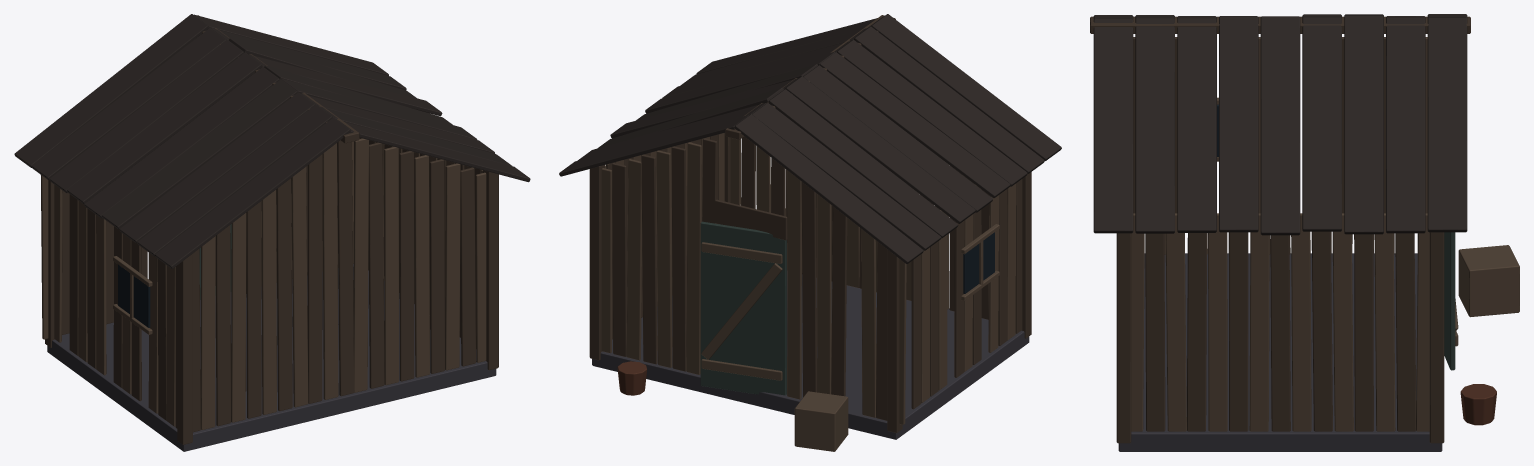
The model's file is SM_ENV_Galpao.fbx.
3 renders of one model, left to right at view 1: azimuth 30°, elevation 25°; view 2: azimuth 150°, elevation 25°; view 3: azimuth 270°, elevation 25°, orthographic. The views are drawn at different scales.
Visible parts, largest first — view 1: SM_ENV_Galpao; view 2: SM_ENV_Galpao; view 3: SM_ENV_Galpao.
Boxes of the visible parts, x1,y1,x2,y2 form: SM_ENV_Galpao: [14, 14, 530, 451]; SM_ENV_Galpao: [559, 14, 1061, 451]; SM_ENV_Galpao: [1090, 14, 1519, 451].
Bounding box in the file's own units: 4.71 × 3.68 × 4.12.
